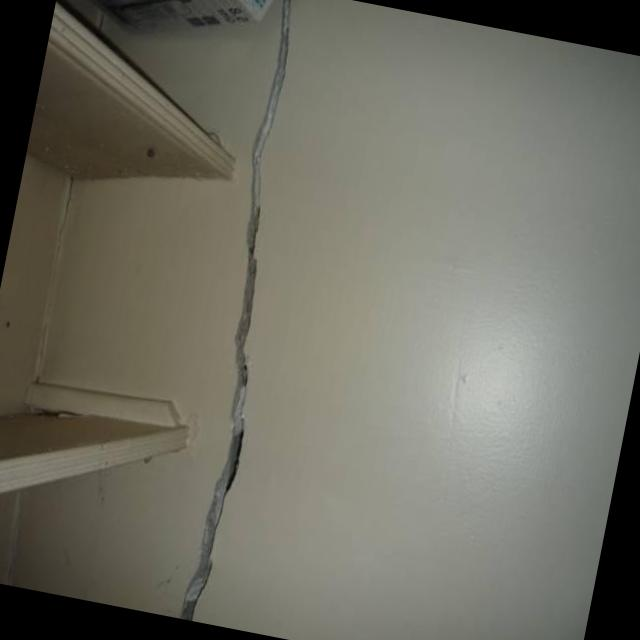crack: (181, 0, 290, 622)
